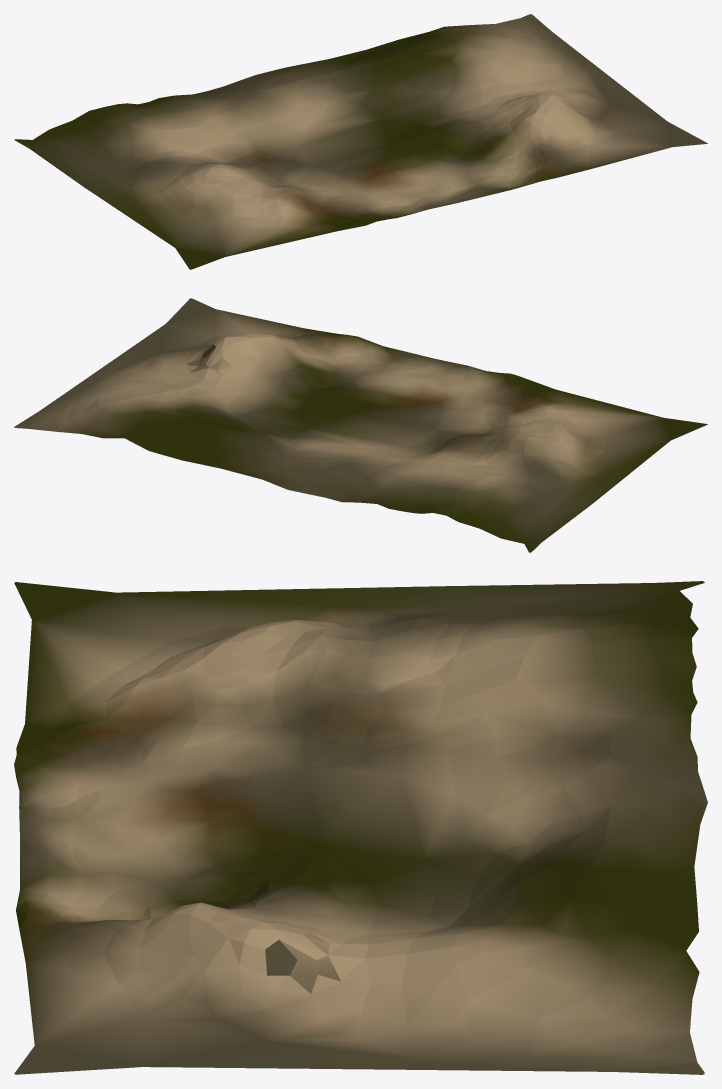
Rendered from terrain_lowpoly.fbx.
3 views of the same model, one above another, from view 1: azimuth 30°, elevation 25°; view 2: azimuth 150°, elevation 25°; view 3: azimuth 270°, elevation 25° (orthographic). The views are drawn at different scales.
Parts seen in each view (by area): view 1: Plane.106; view 2: Plane.106; view 3: Plane.106.
Part boxes in pixels (x1=…): Plane.106: x1=14, y1=14, x2=707, y2=269; Plane.106: x1=14, y1=298, x2=707, y2=552; Plane.106: x1=14, y1=581, x2=707, y2=1074.
Bounding box in the file's own units: 4991 × 294 × 2969.
